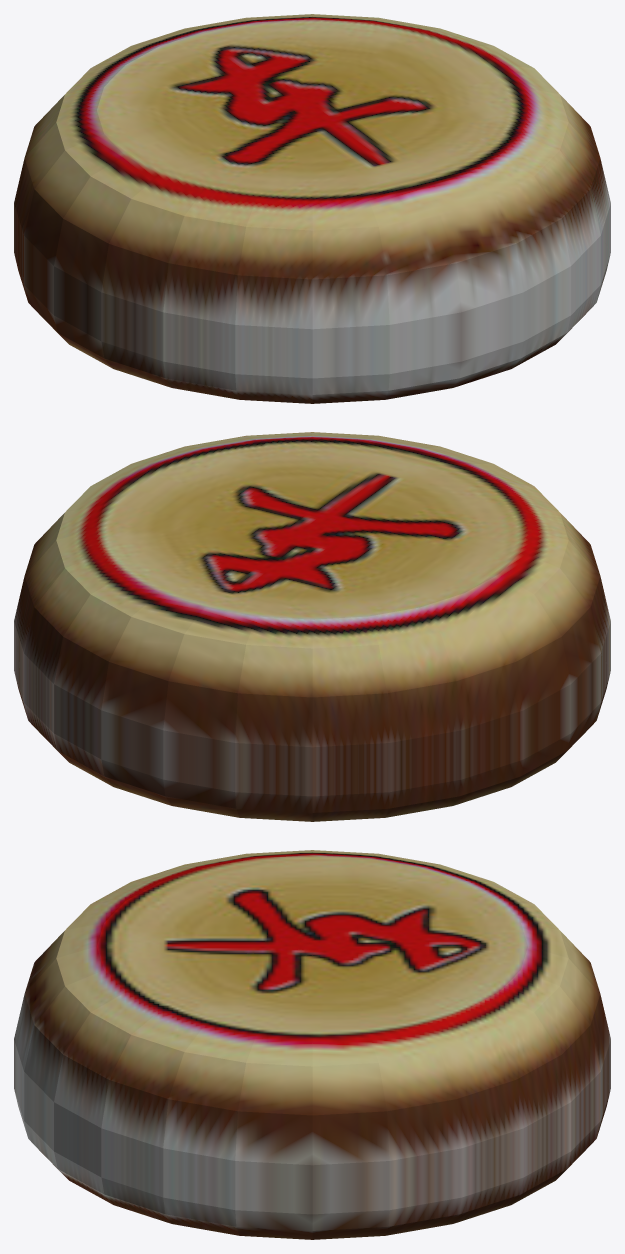
File: Red_23_chariot_left.gltf
The picture shows the model from 3 angles, top to bottom: view 1: azimuth 30°, elevation 25°; view 2: azimuth 150°, elevation 25°; view 3: azimuth 270°, elevation 25°; orthographic projection.
Visible parts, largest first — view 1: Red_23_chariot_left; view 2: Red_23_chariot_left; view 3: Red_23_chariot_left.
Part boxes in pixels (x1,y1,x2,y2): Red_23_chariot_left: [14, 14, 610, 403]; Red_23_chariot_left: [14, 432, 610, 821]; Red_23_chariot_left: [14, 850, 610, 1239].
Size of the model in its own units: 0.0468 by 0.0155 by 0.0468.
1 material, 1 textured.
